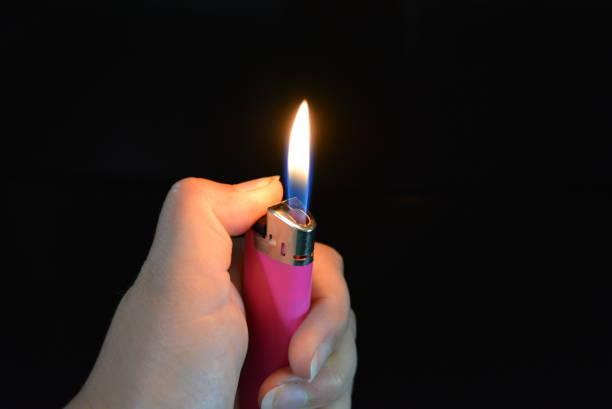Fire: (283, 95, 325, 227)
